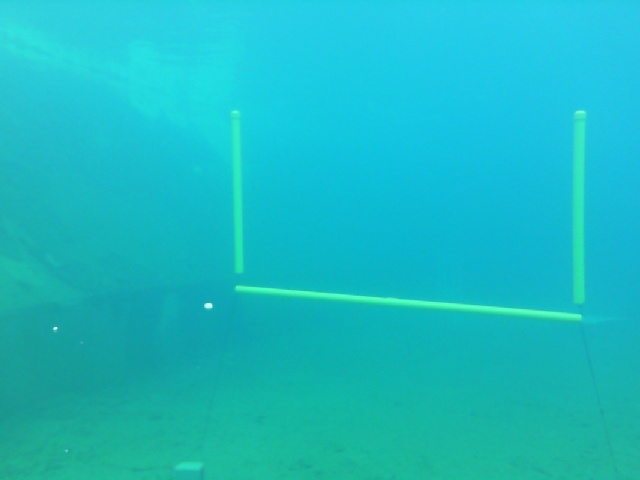channel: (228, 104, 590, 326)
